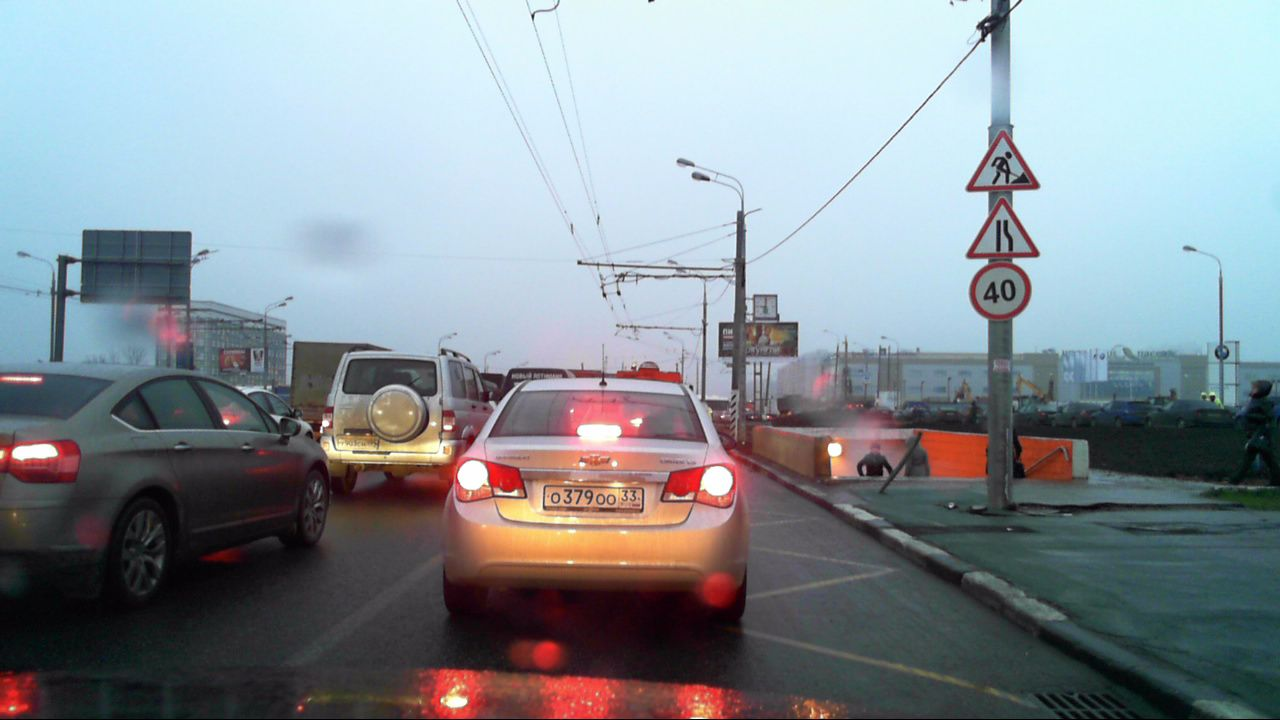speed_warning_40: (968, 260, 1034, 317)
